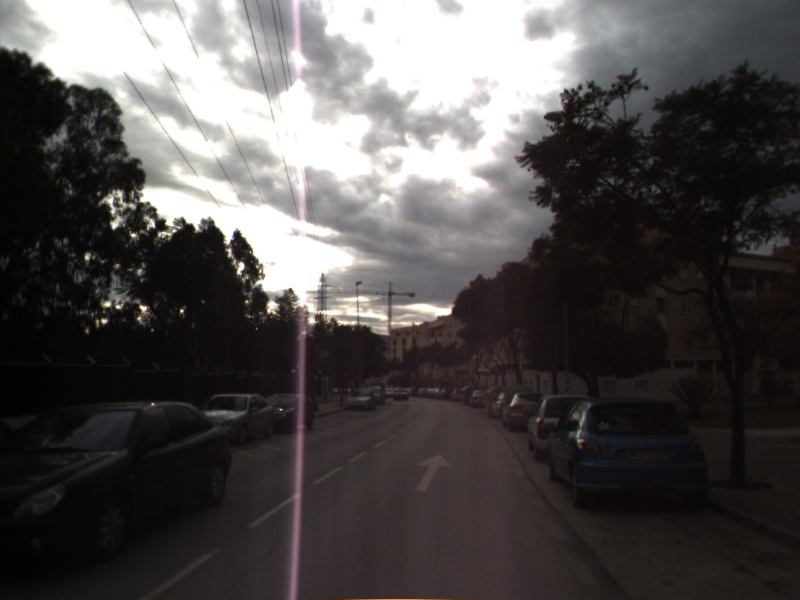STRAIGHT: (412, 452, 454, 493)
